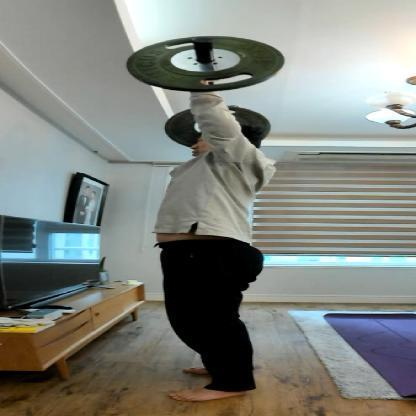barbell: (124, 32, 288, 148)
